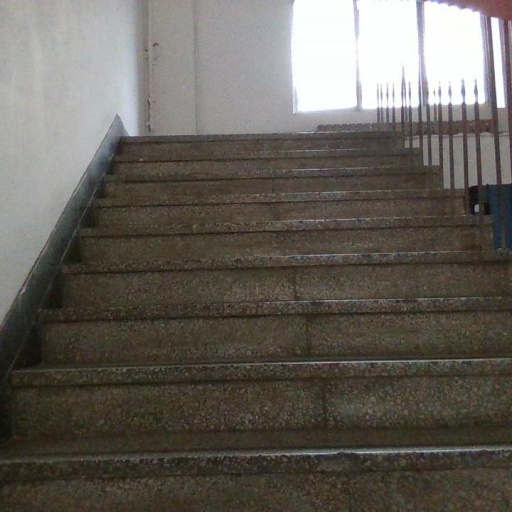Stairs: (0, 132, 512, 512)
